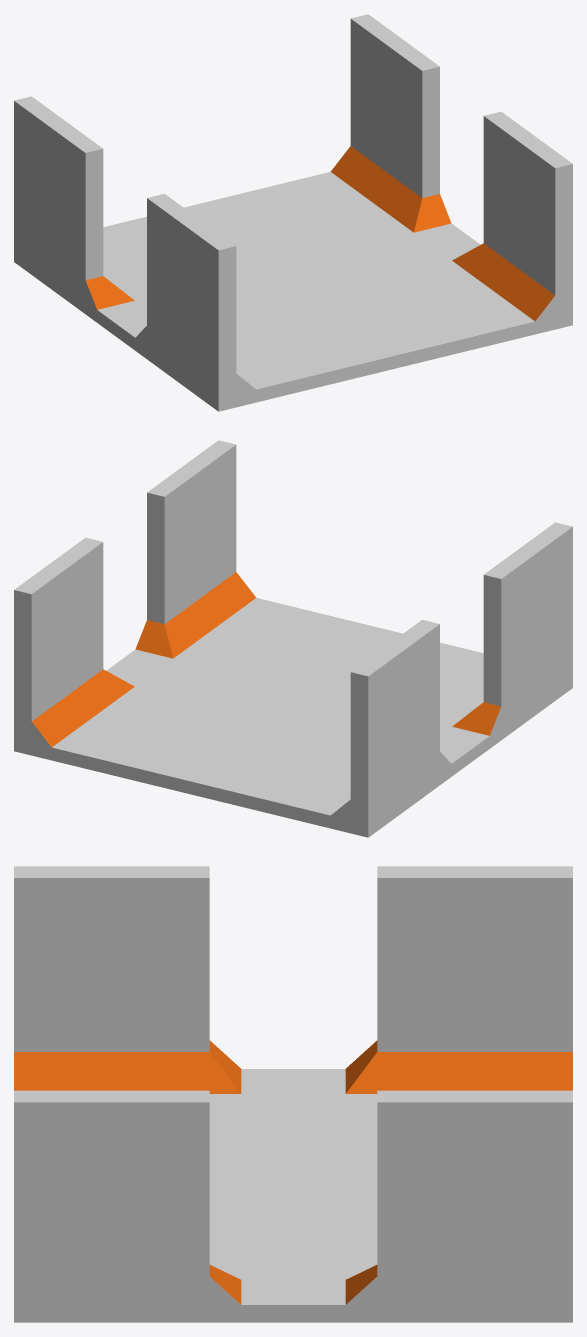
Rendered from 2-wall-2-Door.fbx.
The picture shows the model from 3 angles, top to bottom: view 1: azimuth 30°, elevation 25°; view 2: azimuth 150°, elevation 25°; view 3: azimuth 270°, elevation 25°; orthographic projection. The views are drawn at different scales.
Parts seen in each view (by area): view 1: Плоскость.020; view 2: Плоскость.020; view 3: Плоскость.020.
Boxes of the visible parts, x1,y1,x2,y2 form: Плоскость.020: [14, 14, 572, 411]; Плоскость.020: [14, 440, 572, 837]; Плоскость.020: [14, 866, 572, 1322].
Bounding box in the file's own units: 200 × 87 × 200.
